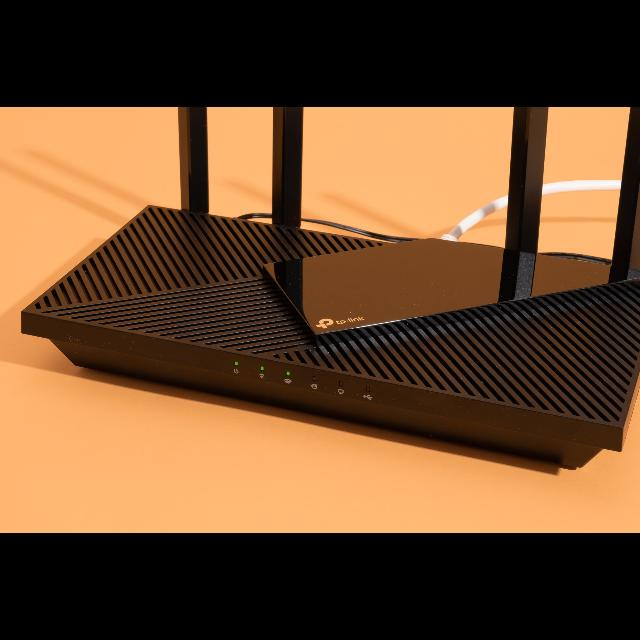Router: (21, 107, 640, 471)
